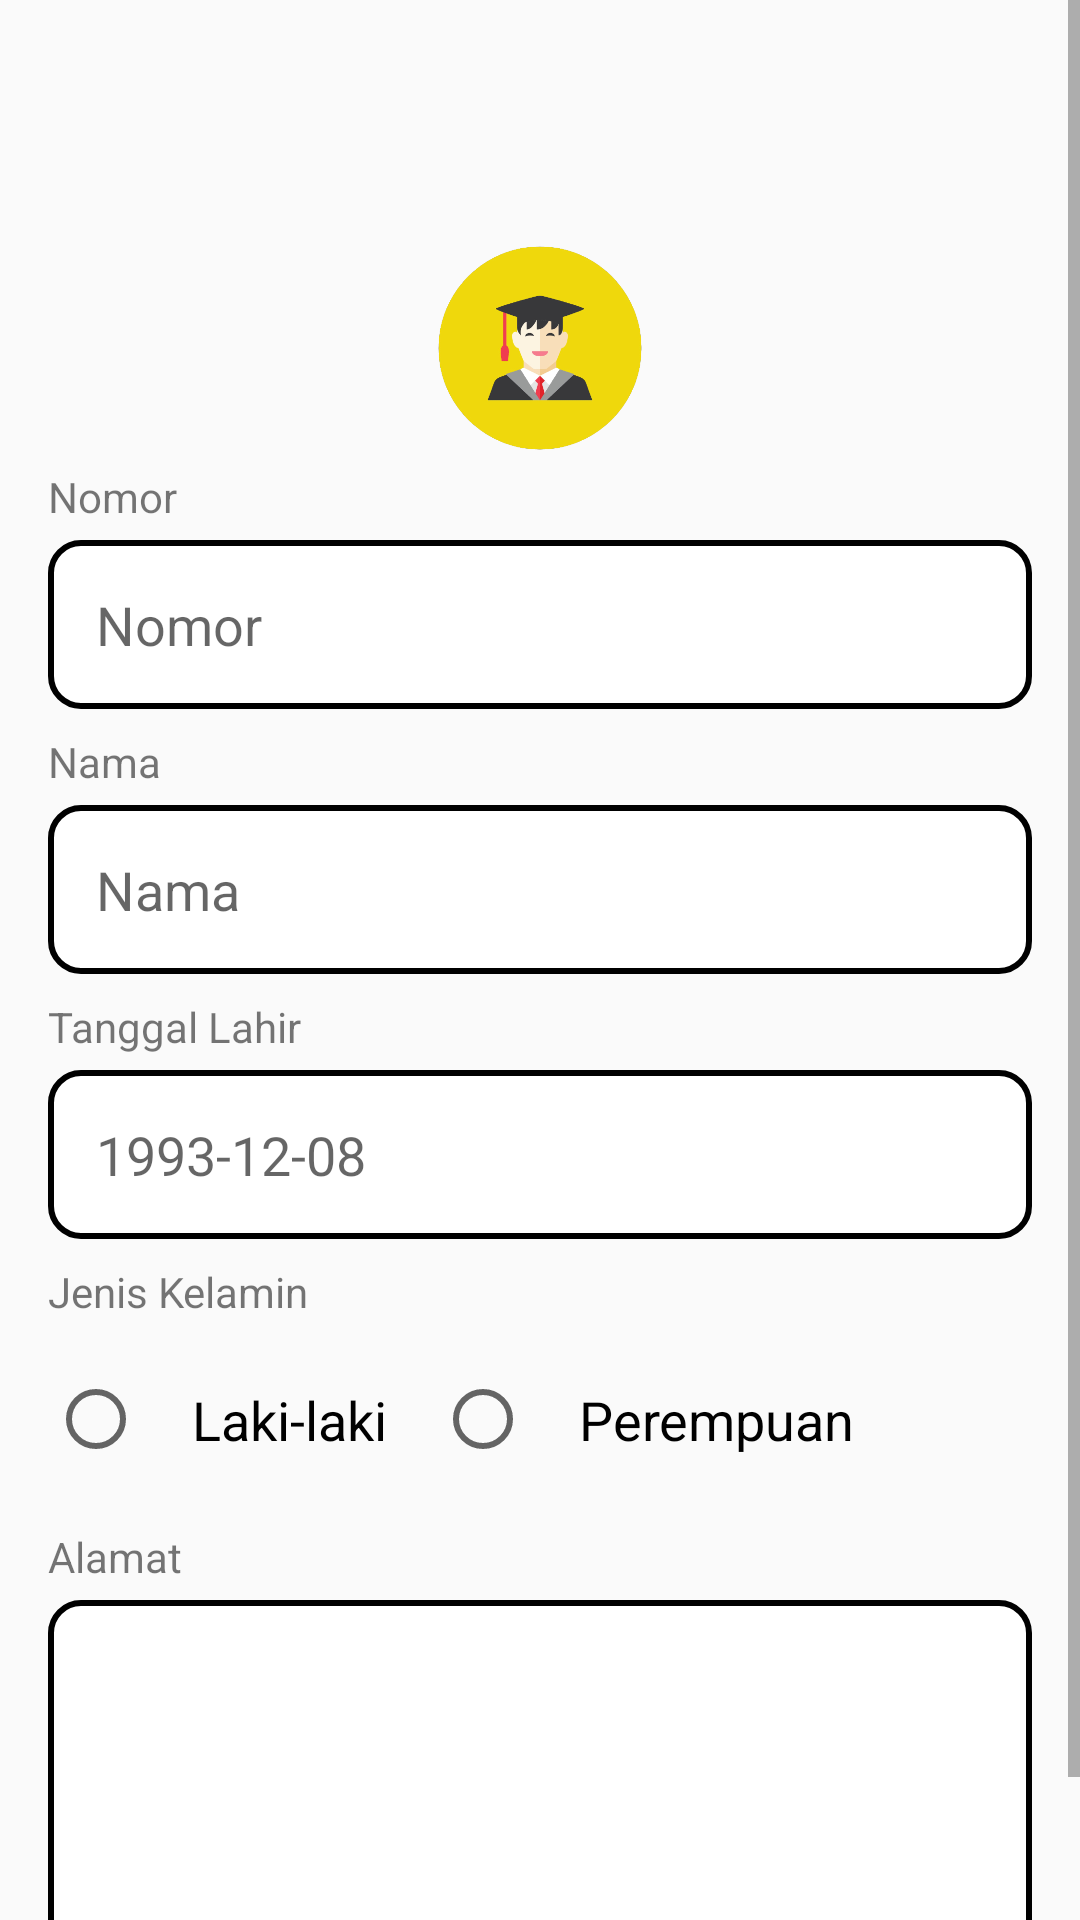

Point at icon controls on the screen. Image size 1080×1920, points as (x,y).
iconmahasiswa: (540,348)
